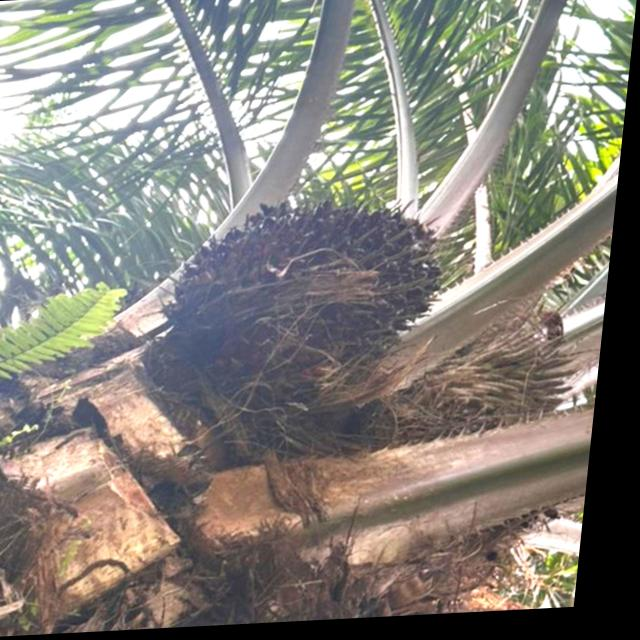ripe: (163, 180, 489, 388)
